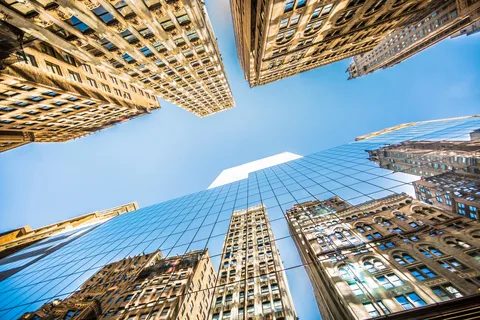high_rise_building: (204, 145, 338, 316)
